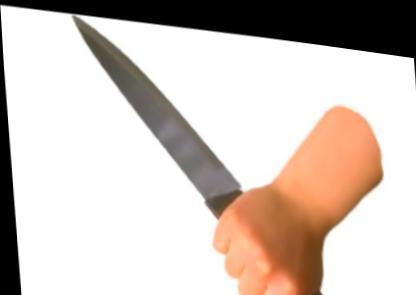knife: (67, 7, 281, 266)
